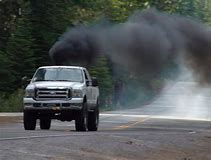smoke: (47, 11, 209, 61)
